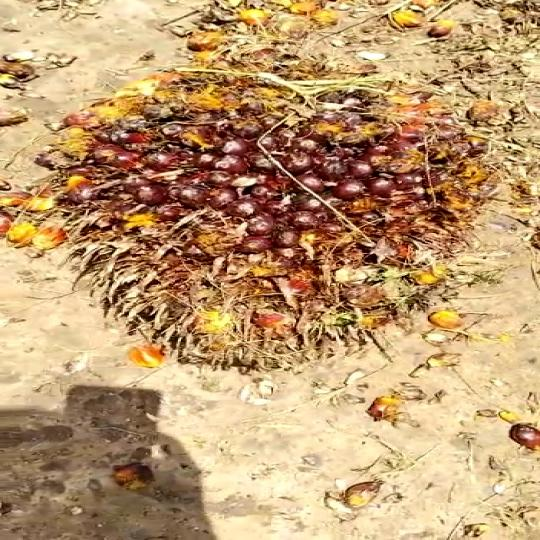masak: (0, 43, 505, 378)
